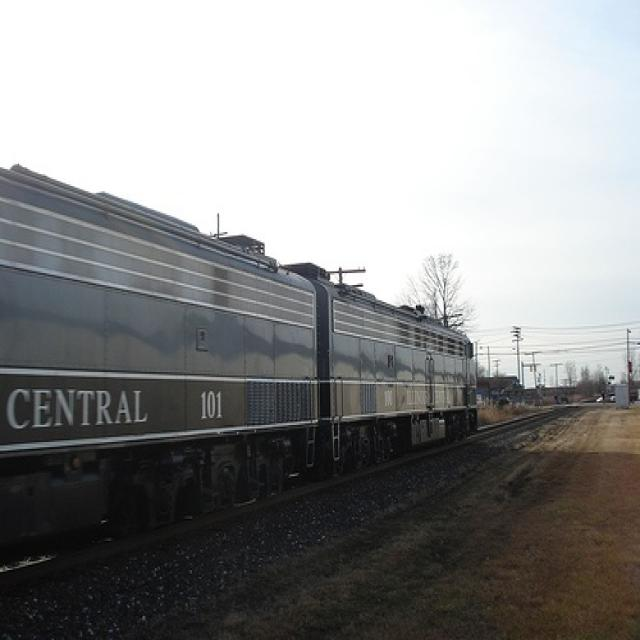train: (1, 160, 479, 560)
